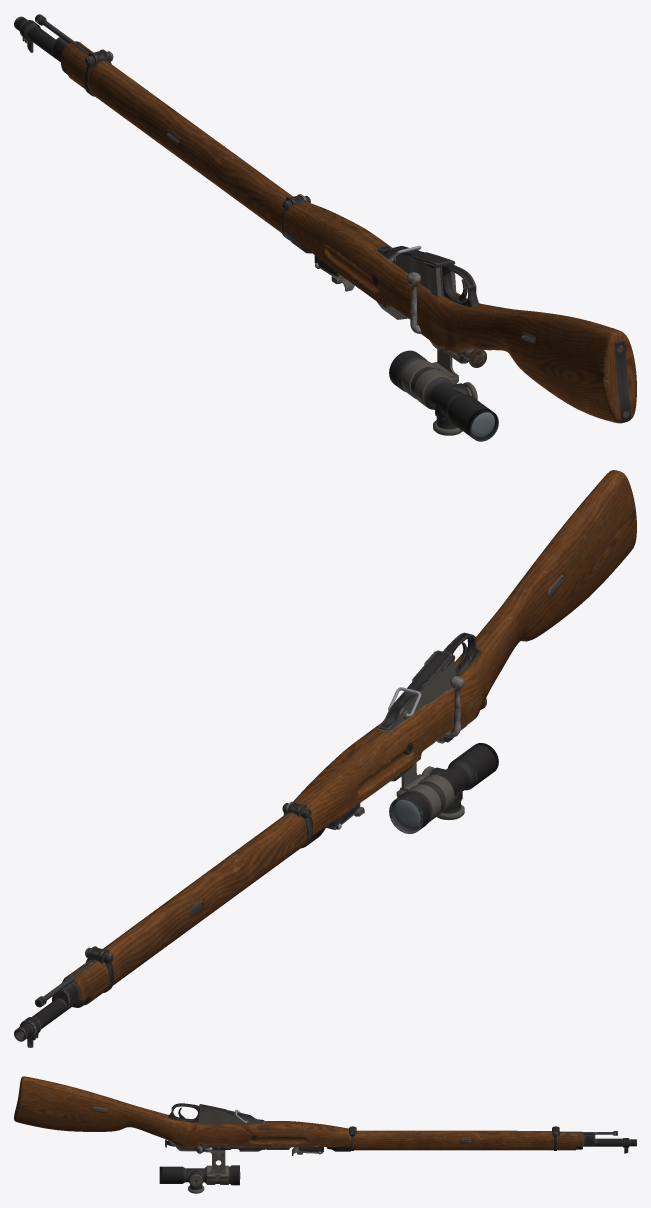
The model's file is mosin.glb.
3 renders of one model, top to bottom at view 1: azimuth 30°, elevation 25°; view 2: azimuth 150°, elevation 25°; view 3: azimuth 270°, elevation 25°, orthographic. The views are drawn at different scales.
Parts seen in each view (by area): view 1: MNStock_Low.002_Main_0; view 2: MNStock_Low.002_Main_0; view 3: MNStock_Low.002_Main_0.
Boxes of the visible parts, left/top/right/bottom form: MNStock_Low.002_Main_0: left=14, top=14, right=636, bottom=441; MNStock_Low.002_Main_0: left=14, top=470, right=636, bottom=1047; MNStock_Low.002_Main_0: left=14, top=1076, right=636, bottom=1193.
Bounding box in the file's own units: 0.068 × 0.2475 × 1.23.
Materials: 2 (2 with a texture image).
